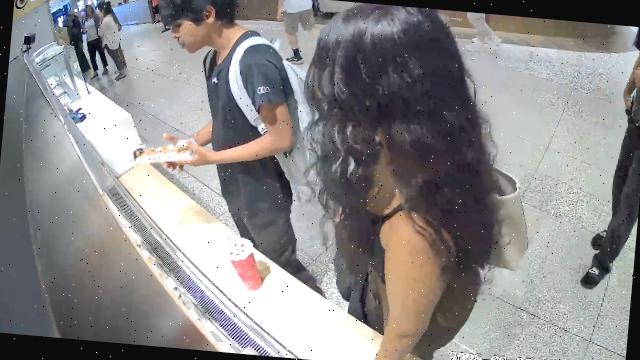sushi-box: (132, 137, 200, 164)
